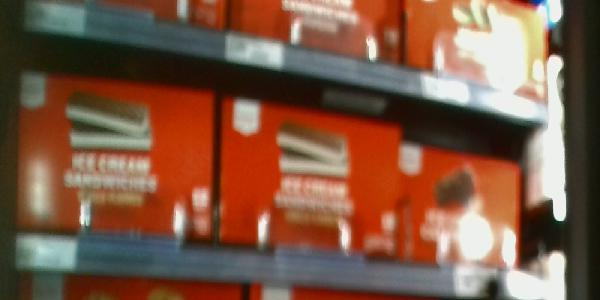icecream: (16, 69, 213, 235), (222, 98, 396, 253), (400, 142, 521, 268)
